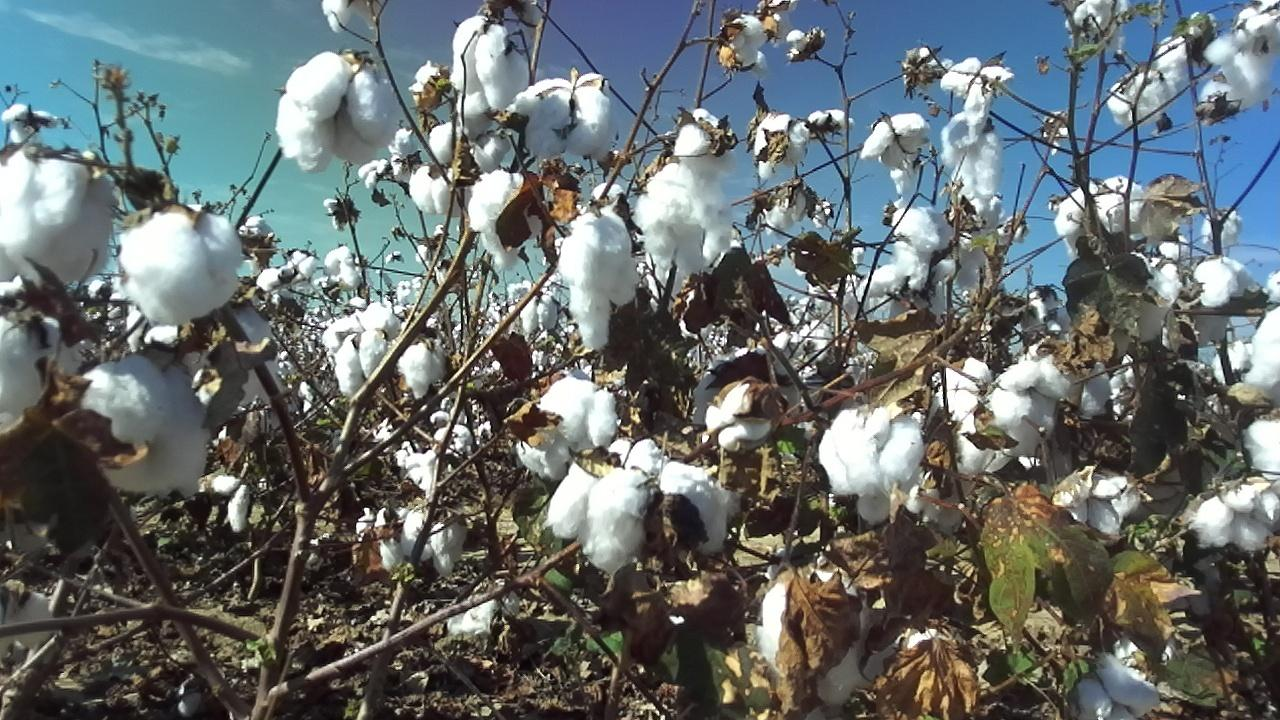cotton_ready: (547, 440, 732, 577), (84, 354, 212, 494), (759, 569, 885, 707), (0, 145, 119, 287), (117, 204, 245, 327), (277, 49, 399, 171), (324, 305, 449, 399), (561, 207, 640, 351), (517, 374, 619, 479), (820, 404, 929, 501), (636, 162, 730, 269), (932, 359, 1013, 475), (407, 124, 509, 215), (512, 72, 617, 158), (0, 305, 65, 437), (989, 357, 1072, 457), (1108, 255, 1185, 361), (451, 15, 530, 118), (1204, 0, 1280, 105), (212, 305, 281, 407), (856, 469, 965, 530), (468, 170, 534, 270), (125, 289, 207, 366), (1072, 650, 1161, 720), (1194, 484, 1280, 555), (1034, 343, 1114, 419), (1247, 306, 1280, 481), (1193, 255, 1255, 347), (376, 510, 462, 575), (1053, 477, 1144, 538), (862, 262, 959, 317), (895, 204, 953, 295), (942, 110, 1000, 199), (1157, 10, 1214, 99), (941, 57, 1014, 123), (954, 199, 1005, 291), (704, 382, 772, 445), (899, 624, 978, 678), (752, 110, 811, 179), (1054, 177, 1102, 259), (858, 110, 929, 165), (1108, 69, 1170, 126), (1064, 0, 1132, 49), (673, 105, 732, 161), (201, 475, 250, 537), (1097, 174, 1147, 233), (761, 187, 810, 235), (1200, 72, 1244, 125)
